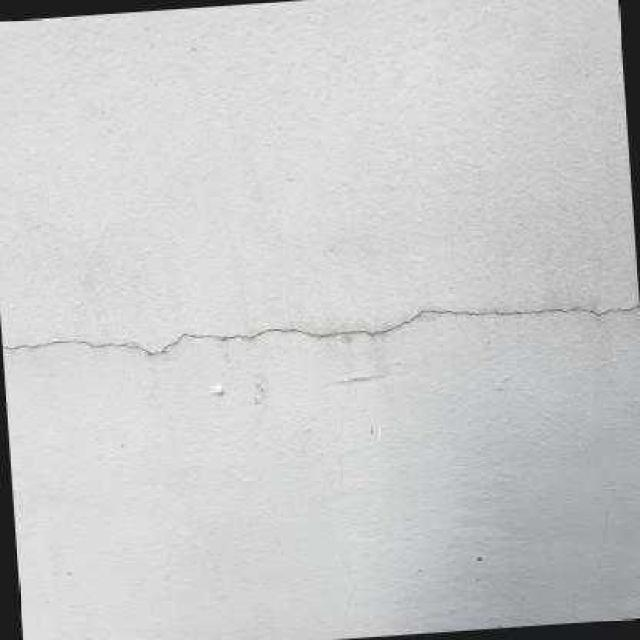D00: (10, 302, 640, 355)
